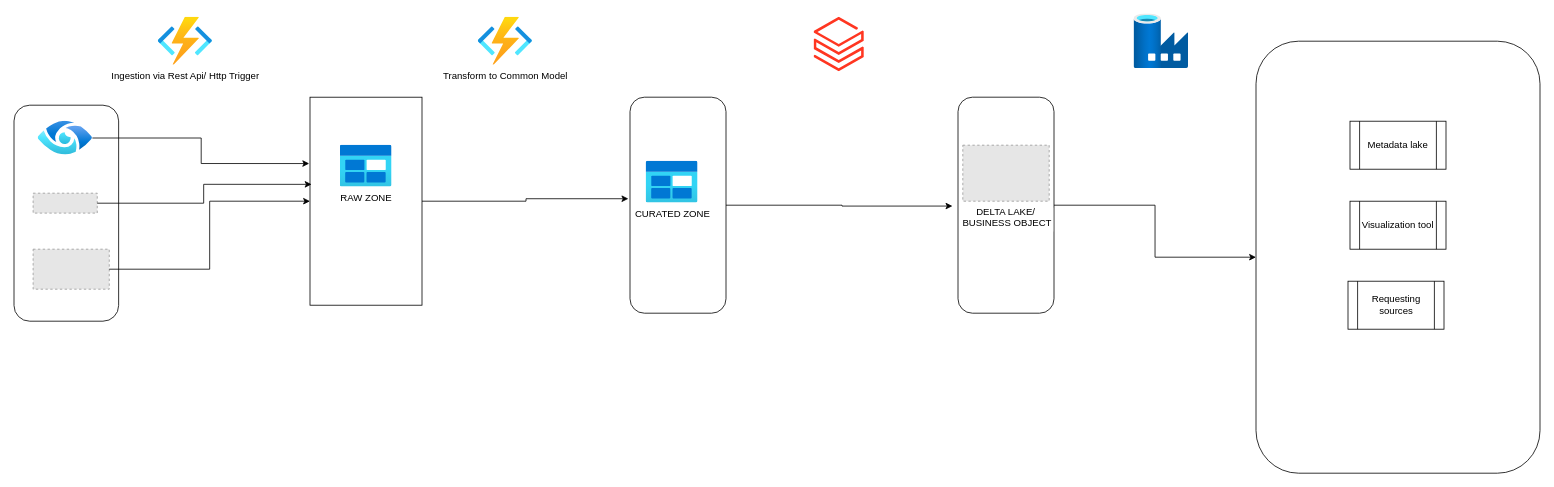
Some shapes in this 1554 by 487 pixel diagram are drawn without their labels. Grey dashed boxes stand in for pictures. Each missing label, with the box of its shape:
MERGE INTO STABLE TABLES: (814, 17, 864, 71)
Send Data to Clients: (1134, 14, 1188, 68)
